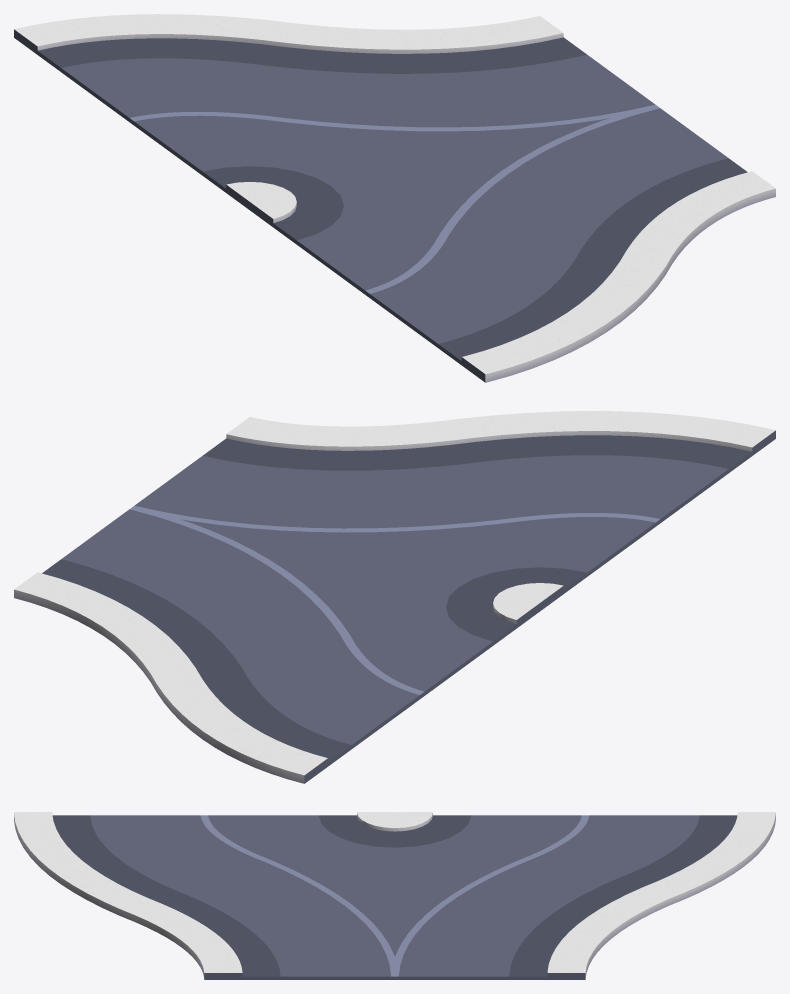
The model's file is road_split.glb.
3 renders of one model, top to bottom at view 1: azimuth 30°, elevation 25°; view 2: azimuth 150°, elevation 25°; view 3: azimuth 270°, elevation 25°, orthographic. The views are drawn at different scales.
Visible parts, largest first — view 1: road-split; view 2: road-split; view 3: road-split.
Boxes of the visible parts, x1,y1,x2,y2 form: road-split: (14,14,775,382); road-split: (14,411,775,783); road-split: (14,812,775,979).
Size of the model in its own units: 1 by 0.02 by 2.
Materials: 1 (1 with a texture image).
